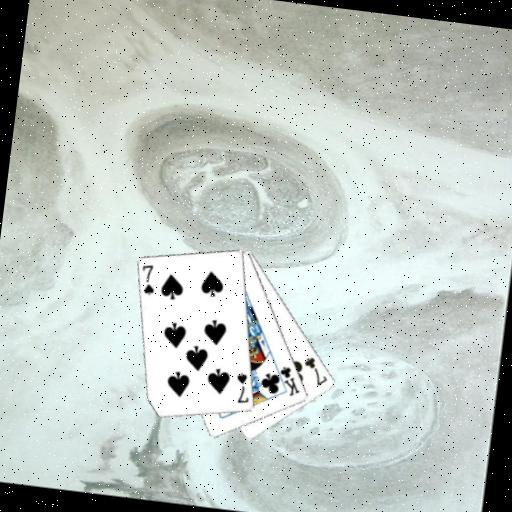7C: (299, 353, 332, 388)
7S: (136, 261, 159, 298), (231, 370, 254, 406)
KC: (269, 362, 304, 399)
